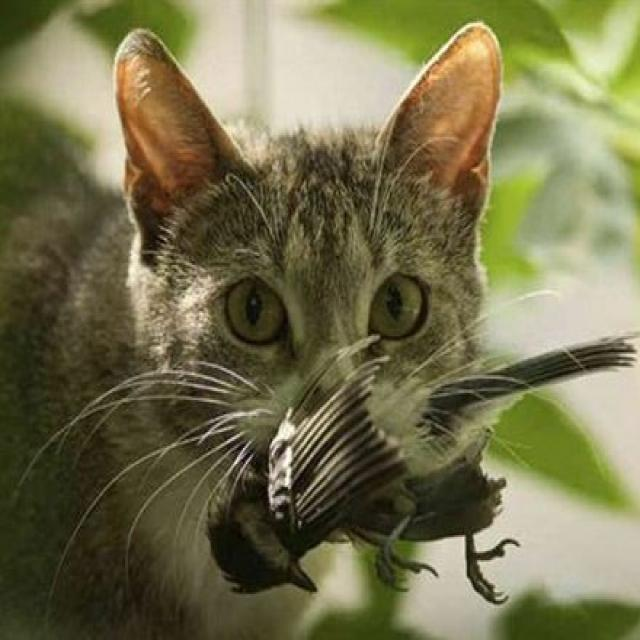brid: (172, 384, 542, 620)
cat: (13, 41, 490, 599)
